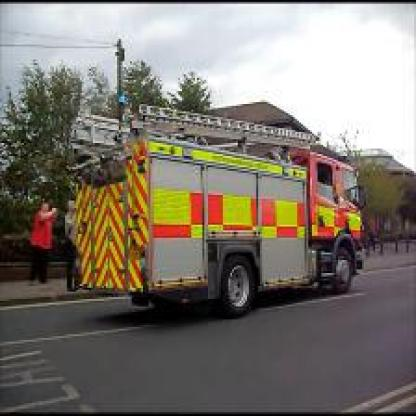other: (149, 180, 370, 243), (70, 154, 146, 290)
